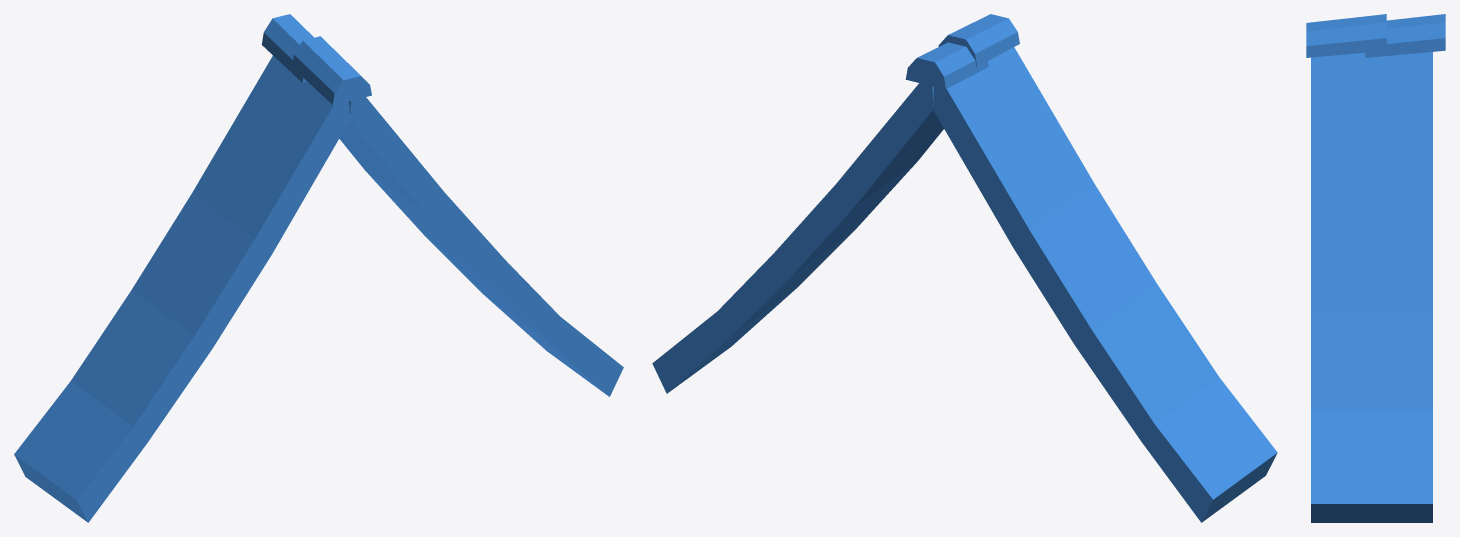
Rendered from Collision_Roof_Modular_FlatTiles_8_Mid.fbx.
The picture shows the model from 3 angles, left to right: view 1: azimuth 30°, elevation 25°; view 2: azimuth 150°, elevation 25°; view 3: azimuth 270°, elevation 25°; orthographic projection. The views are drawn at different scales.
Parts seen in each view (by area): view 1: UCX_Roof_Modular_FlatTiles_8_Mid_01; view 2: UCX_Roof_Modular_FlatTiles_8_Mid_01; view 3: UCX_Roof_Modular_FlatTiles_8_Mid_01.
Boxes of the visible parts, left/top/right/bottom form: UCX_Roof_Modular_FlatTiles_8_Mid_01: left=14, top=14, right=623, bottom=522; UCX_Roof_Modular_FlatTiles_8_Mid_01: left=652, top=14, right=1277, bottom=522; UCX_Roof_Modular_FlatTiles_8_Mid_01: left=1306, top=14, right=1445, bottom=522.
Size of the model in its own units: 996 by 684 by 226.
